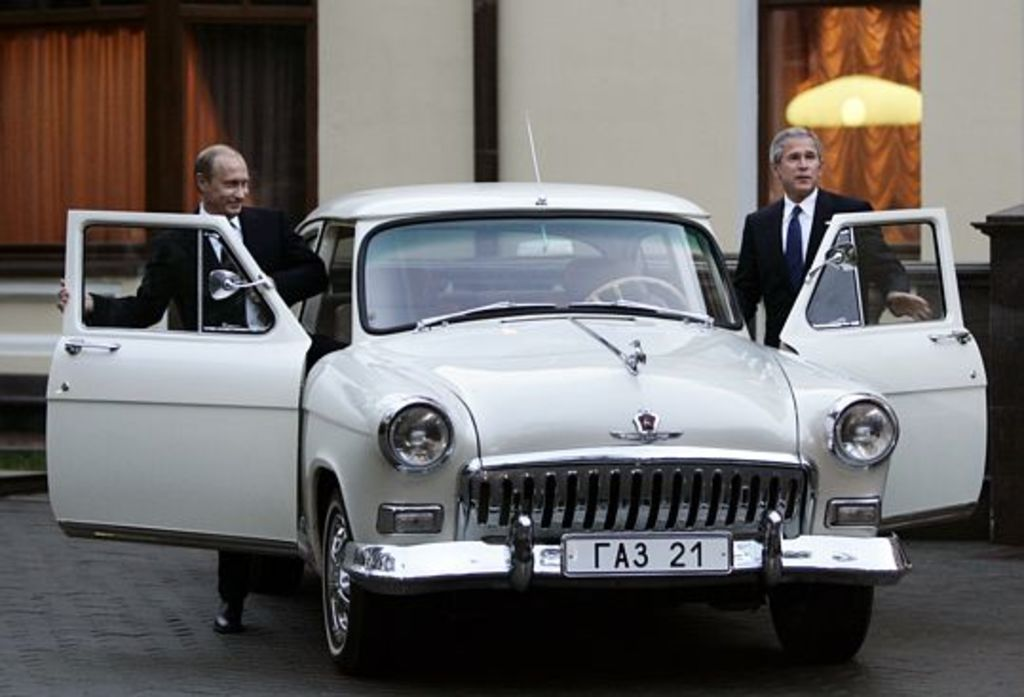Person: (57, 143, 350, 632), (734, 125, 932, 354)
